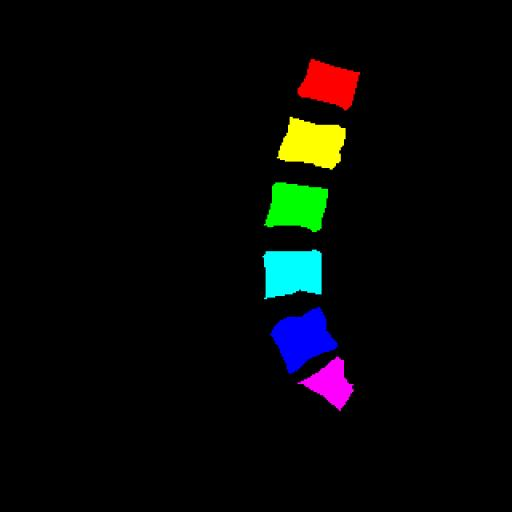L1: (298, 59, 360, 110)
L2: (277, 117, 346, 168)
L3: (265, 183, 328, 232)
L4: (266, 251, 322, 298)
L5: (272, 307, 337, 372)
S1: (298, 357, 358, 410)
